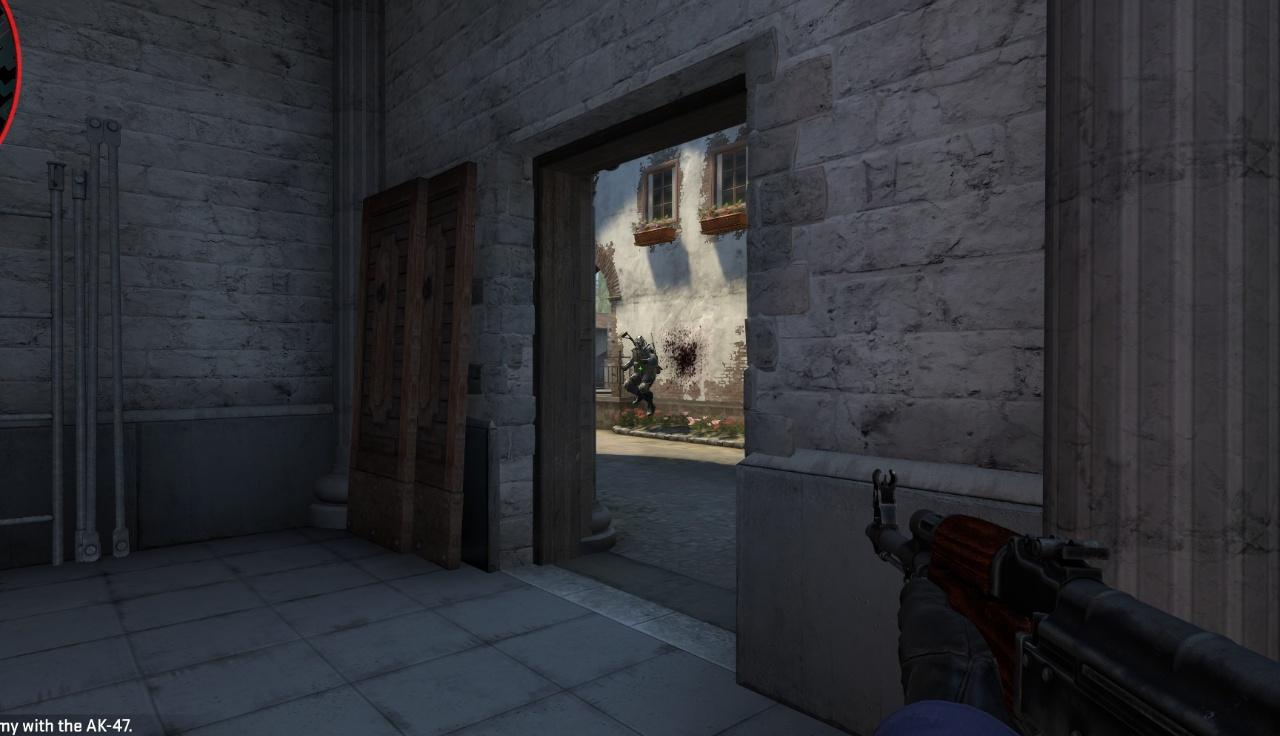ct: (628, 335, 656, 403)
cthead: (633, 337, 646, 350)
rifle: (863, 470, 1280, 736)
